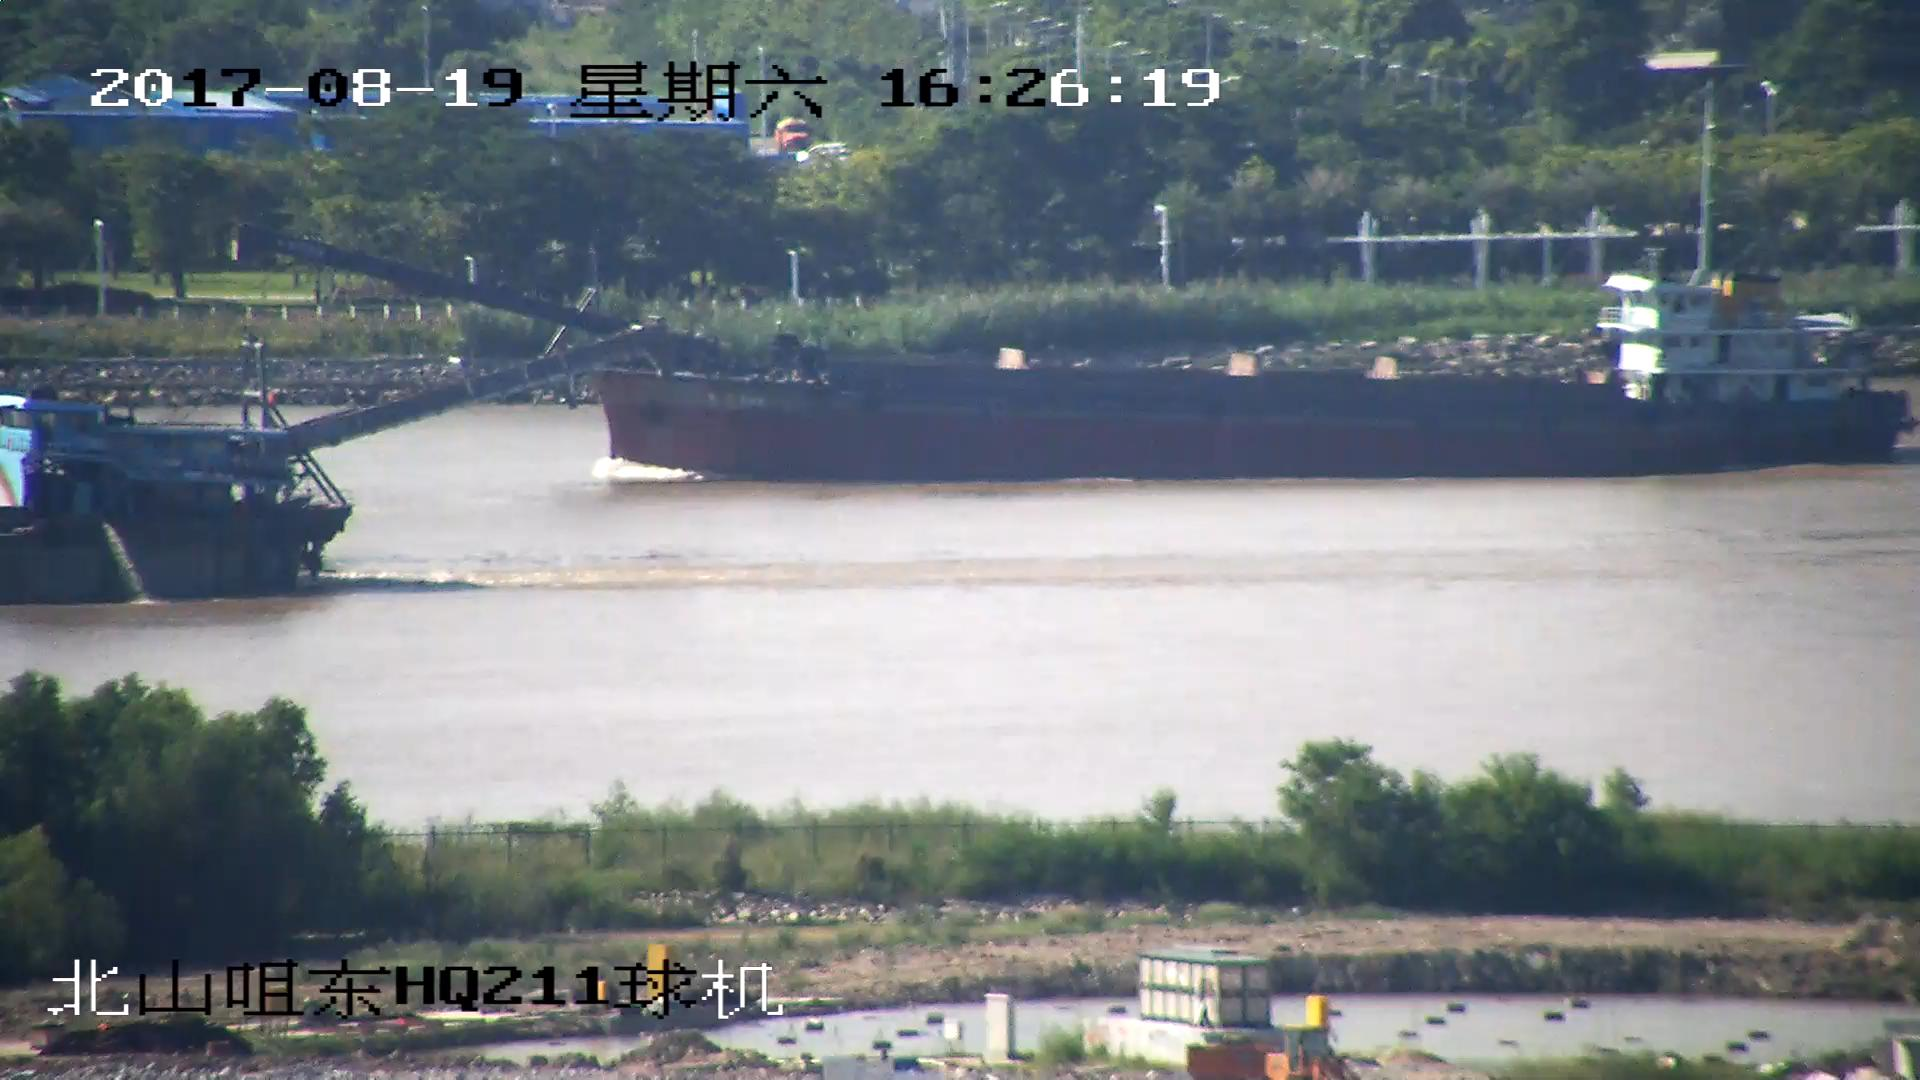bulk cargo carrier: (234, 228, 1919, 483), (1, 331, 640, 605)
